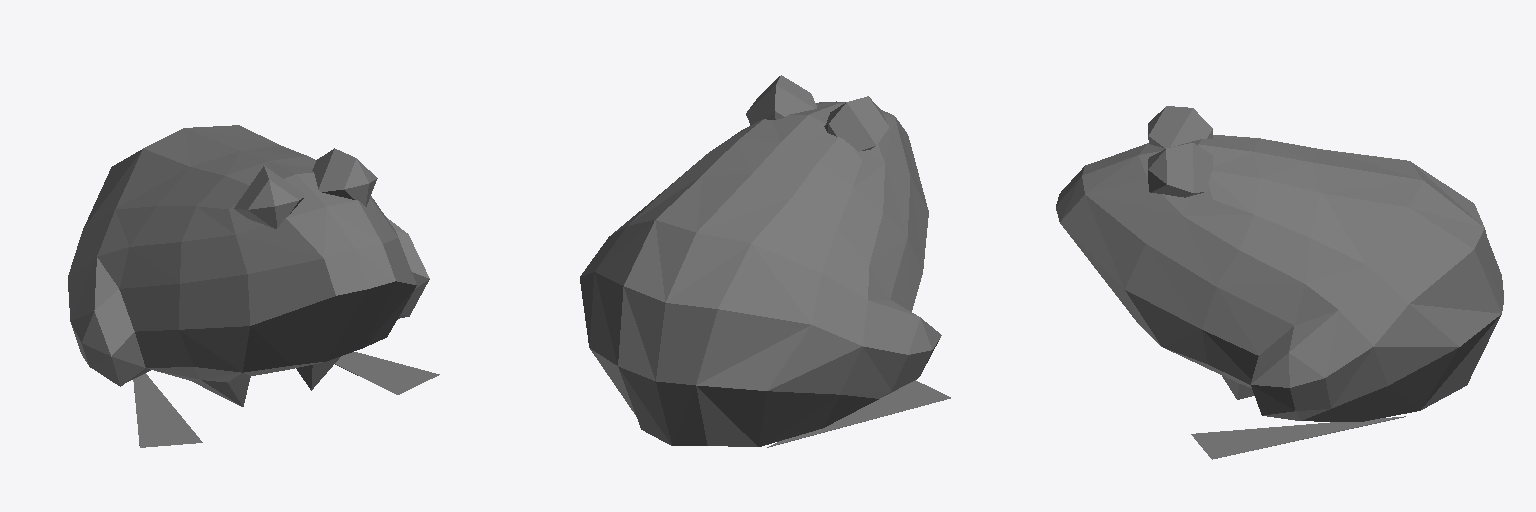
Rendered from Frog.obj.
3 views of the same model, side by side, from view 1: azimuth 30°, elevation 25°; view 2: azimuth 150°, elevation 25°; view 3: azimuth 270°, elevation 25° (orthographic).
Parts seen in each view (by area): view 1: group1_pPlane1; view 2: group1_pPlane1; view 3: group1_pPlane1.
Part boxes in pixels (left/top/right/bottom): group1_pPlane1: left=68, top=125, right=439, bottom=447; group1_pPlane1: left=580, top=75, right=950, bottom=447; group1_pPlane1: left=1056, top=106, right=1503, bottom=459.
Size of the model in its own units: 2.12 by 1.56 by 2.43.